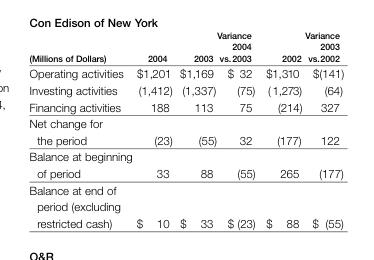table: (28, 29, 343, 229)
table column: (28, 29, 133, 229), (216, 29, 259, 229), (259, 29, 302, 229), (133, 29, 175, 229), (175, 29, 216, 229), (302, 29, 343, 229)
table column header: (28, 29, 343, 64)
table row: (28, 180, 343, 229), (28, 29, 343, 64), (28, 114, 343, 147), (28, 147, 343, 180), (28, 64, 343, 81), (28, 97, 343, 114), (28, 81, 343, 97)
